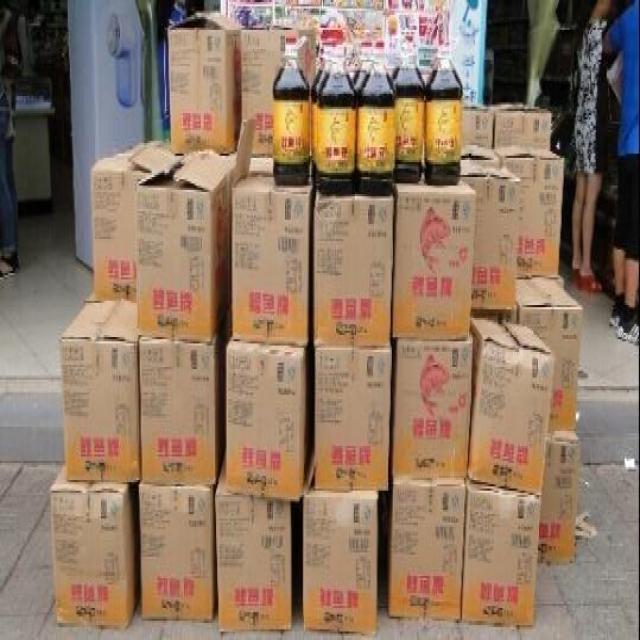box: (134, 154, 234, 342), (53, 301, 147, 484), (464, 302, 548, 501), (49, 461, 138, 627), (305, 188, 395, 346), (232, 154, 305, 348), (311, 333, 398, 495), (225, 342, 315, 494), (298, 471, 378, 636), (141, 331, 225, 487), (393, 176, 471, 341), (218, 469, 296, 634), (461, 469, 540, 631), (134, 477, 214, 620), (387, 475, 467, 618), (398, 334, 472, 487), (511, 272, 580, 436), (91, 143, 162, 302), (167, 7, 240, 156), (459, 157, 524, 315), (496, 150, 559, 277), (537, 436, 579, 568)
